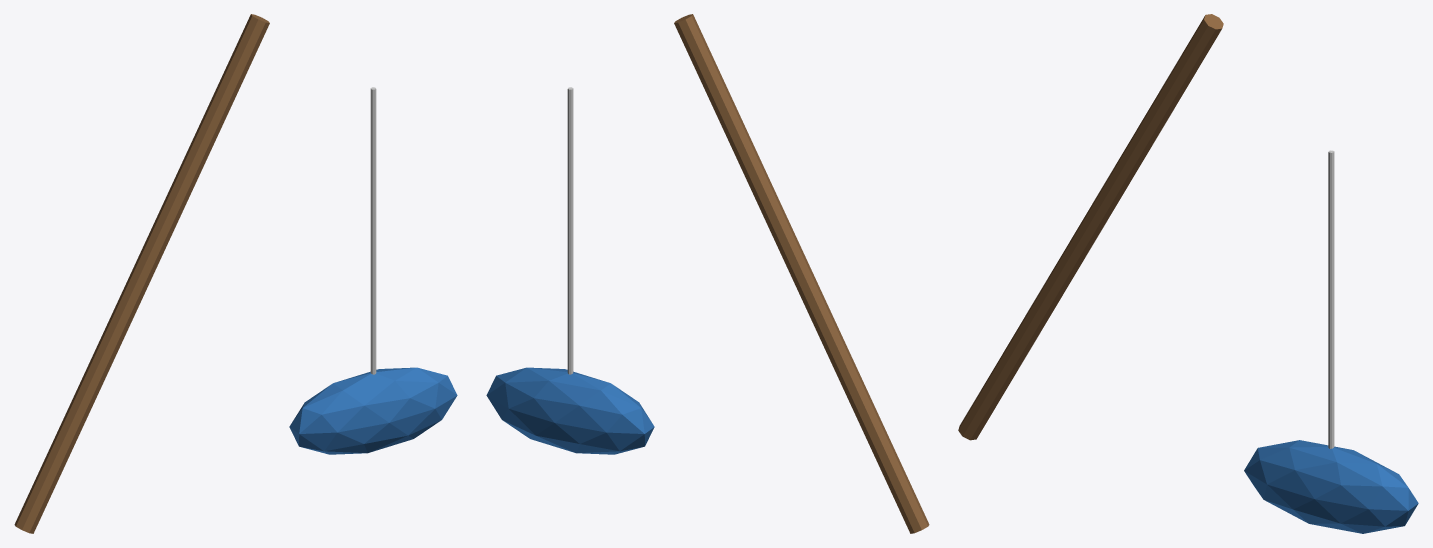
Rendered from SM_GZ_tool_rod.fbx.
The picture shows the model from 3 angles, left to right: view 1: azimuth 30°, elevation 25°; view 2: azimuth 150°, elevation 25°; view 3: azimuth 330°, elevation 25°; orthographic projection. The views are drawn at different scales.
Visible parts, largest first — view 1: SM_GZ_tool_rod; view 2: SM_GZ_tool_rod; view 3: SM_GZ_tool_rod.
Boxes of the visible parts, x1=… form: SM_GZ_tool_rod: x1=14, y1=14, x2=457, y2=533; SM_GZ_tool_rod: x1=486, y1=14, x2=929, y2=533; SM_GZ_tool_rod: x1=958, y1=14, x2=1418, y2=533.
Size of the model in its own units: 142 by 144 by 18.
